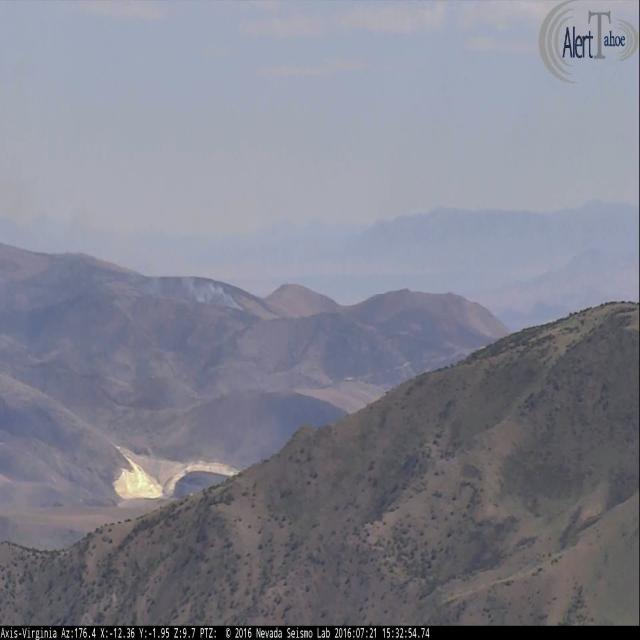smoke: (144, 266, 246, 314)
